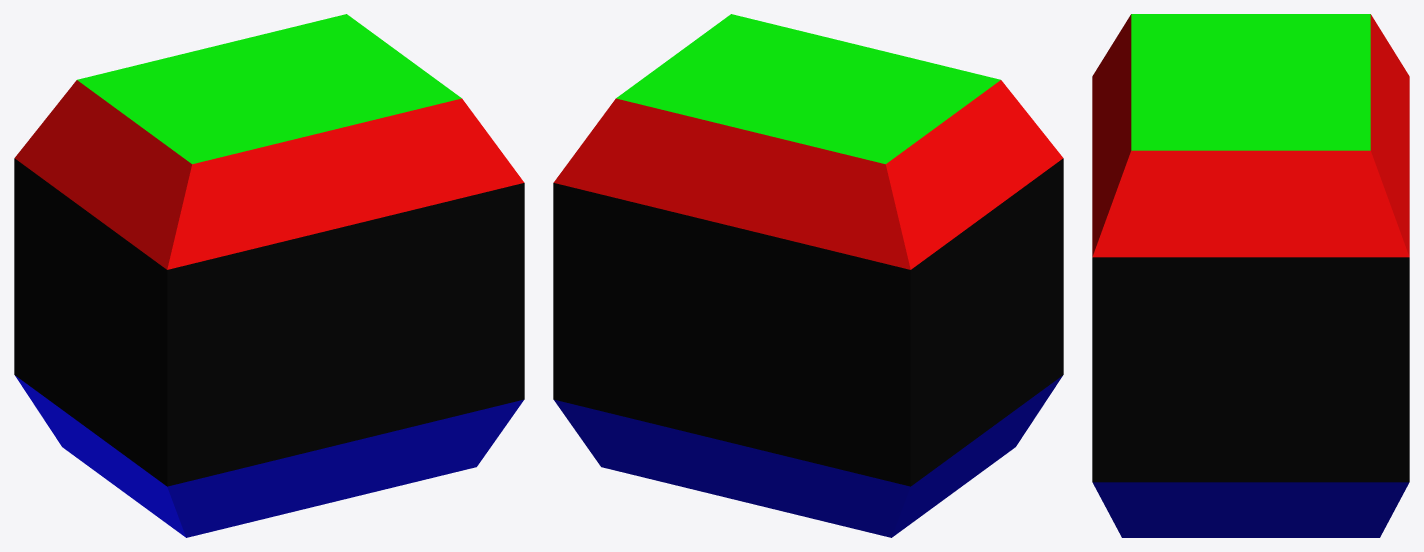
The model's file is Crate.fbx.
3 views of the same model, side by side, from view 1: azimuth 30°, elevation 25°; view 2: azimuth 150°, elevation 25°; view 3: azimuth 270°, elevation 25° (orthographic). The views are drawn at different scales.
Parts seen in each view (by area): view 1: Plane.019; view 2: Plane.019; view 3: Plane.019.
Part boxes in pixels (x1,y1,x2,y2): Plane.019: (14,14,524,537); Plane.019: (553,14,1063,537); Plane.019: (1092,14,1409,537).
Bounding box in the file's own units: 0.5548 × 0.546 × 0.4108.
